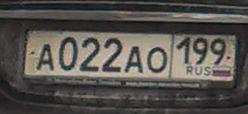character: (57, 35, 79, 72), (101, 36, 122, 72), (80, 37, 101, 71), (34, 41, 56, 73), (146, 46, 169, 74), (123, 46, 145, 74), (209, 36, 226, 65), (193, 35, 209, 65), (176, 35, 192, 64)
